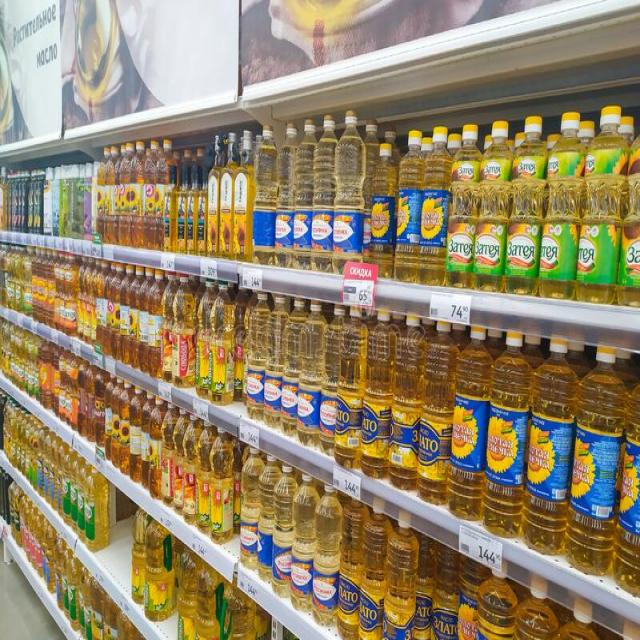oil: (450, 346, 640, 599), (446, 109, 640, 306), (326, 316, 453, 508), (254, 118, 369, 276), (246, 294, 352, 447), (242, 450, 337, 596), (368, 158, 449, 286), (338, 494, 416, 626)
